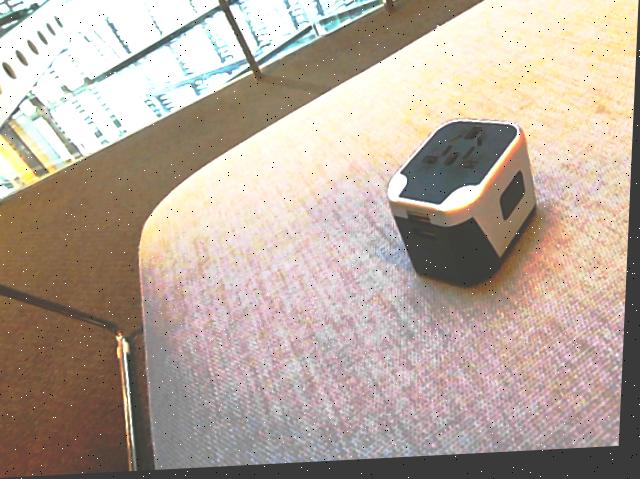adapter: (385, 120, 542, 296)
